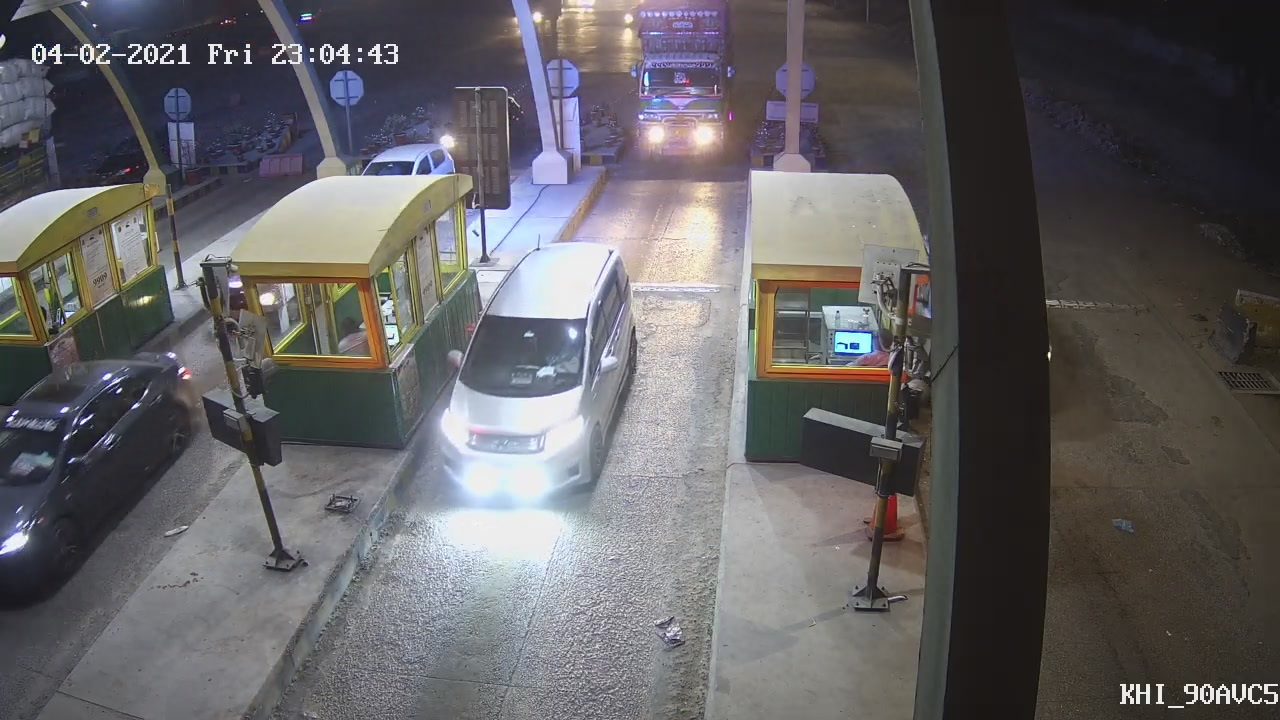F1: (429, 241, 644, 503)
